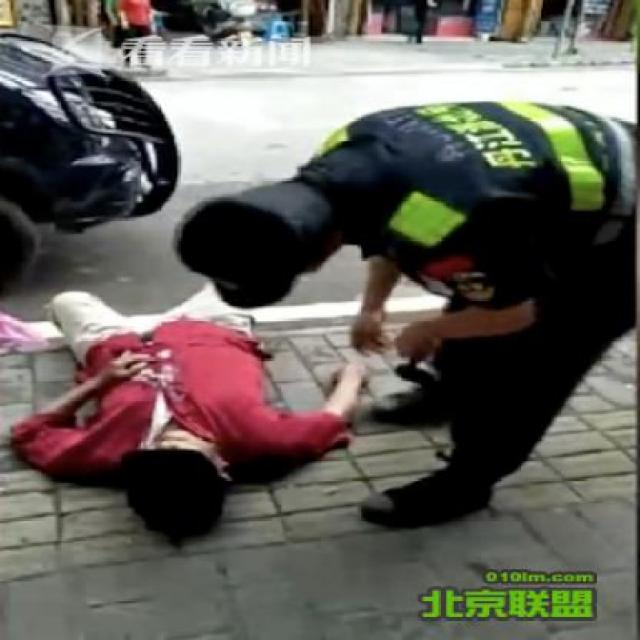fall: (6, 269, 371, 549)
